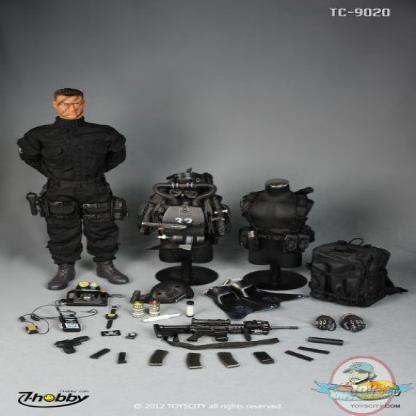Grenade: (148, 297, 164, 317), (133, 300, 145, 318)
Gun: (153, 318, 300, 350)
Pistol: (53, 335, 89, 354)
